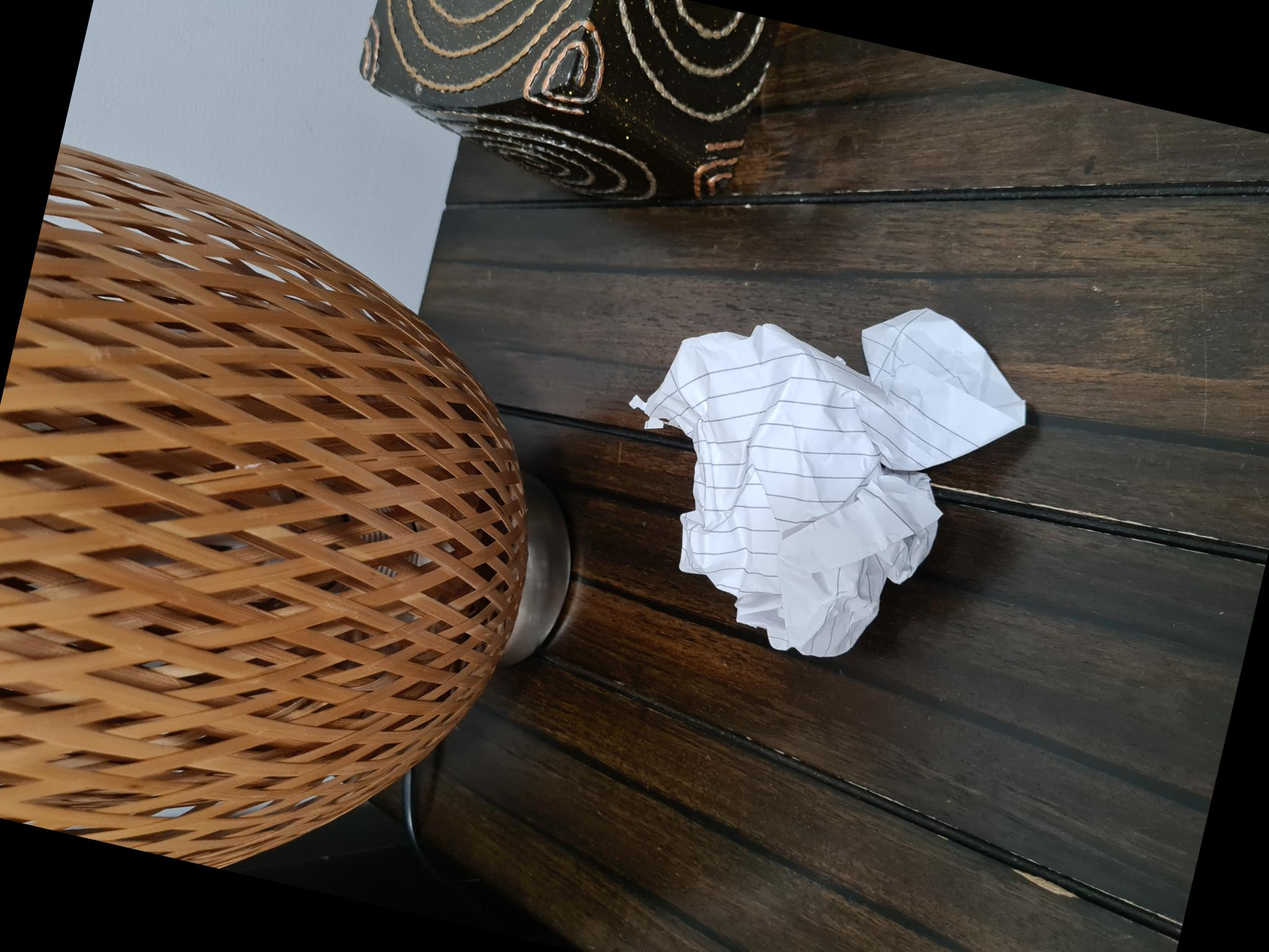Kertas: (264, 591, 611, 948)
